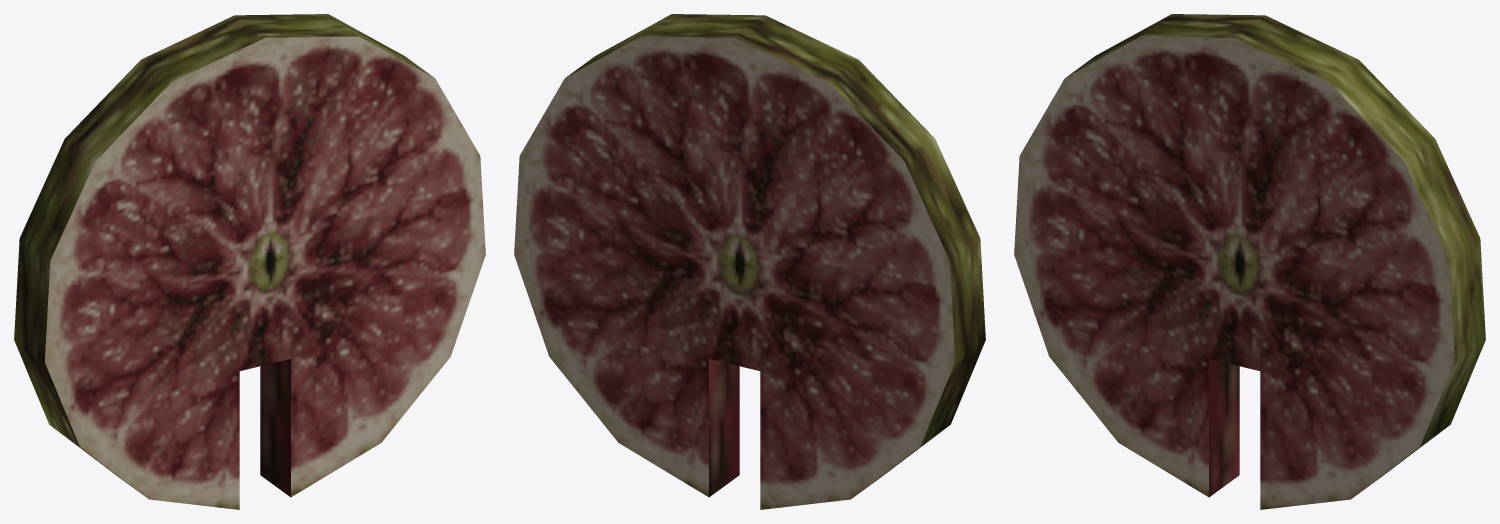
Rendered from HB_Garnish_VeinfruitWheel.fbx.
3 renders of one model, left to right at view 1: azimuth 30°, elevation 25°; view 2: azimuth 150°, elevation 25°; view 3: azimuth 330°, elevation 25°, orthographic.
Visible parts, largest first — view 1: HB_Garnish_VeinfruitWheel; view 2: HB_Garnish_VeinfruitWheel; view 3: HB_Garnish_VeinfruitWheel.
Part boxes in pixels (x1,y1,x2,y2): HB_Garnish_VeinfruitWheel: (14, 14, 485, 509); HB_Garnish_VeinfruitWheel: (514, 14, 985, 509); HB_Garnish_VeinfruitWheel: (1014, 14, 1485, 509).
Bounding box in the file's own units: 0.0415 × 0.0419 × 0.005.
1 material, 1 textured.
